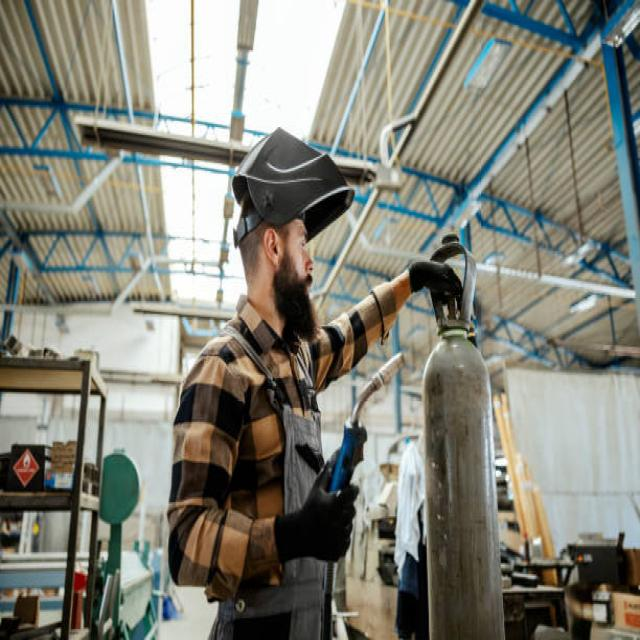Gloves: (272, 452, 362, 568), (405, 254, 466, 324)
person: (161, 127, 465, 640)
